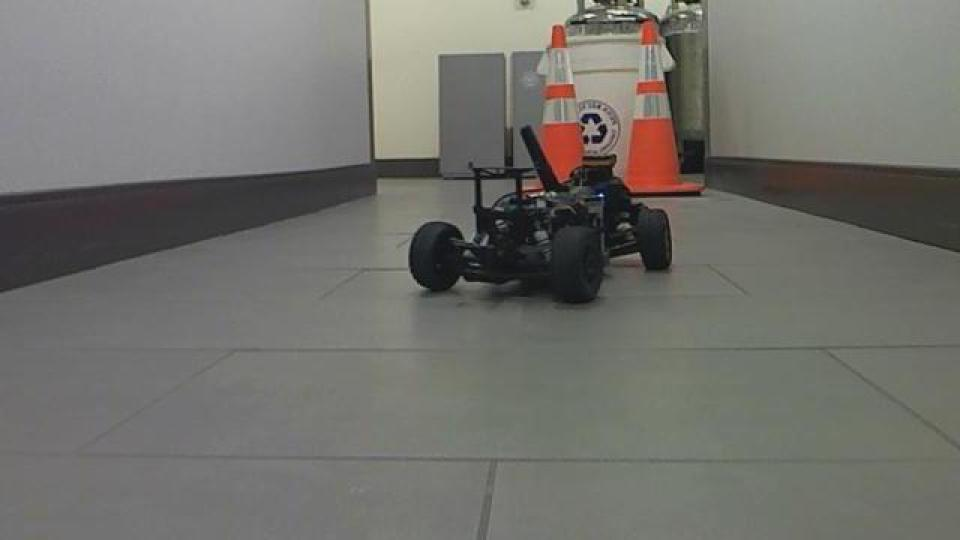car: (403, 123, 675, 306)
